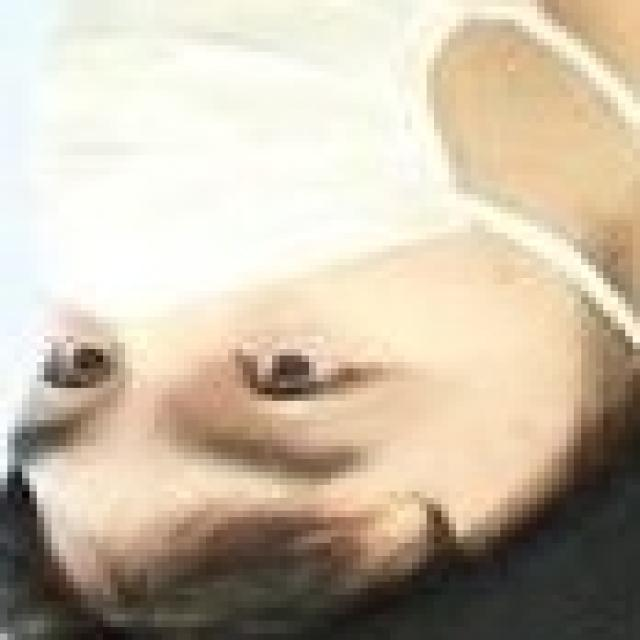Mask: (14, 15, 586, 365)
